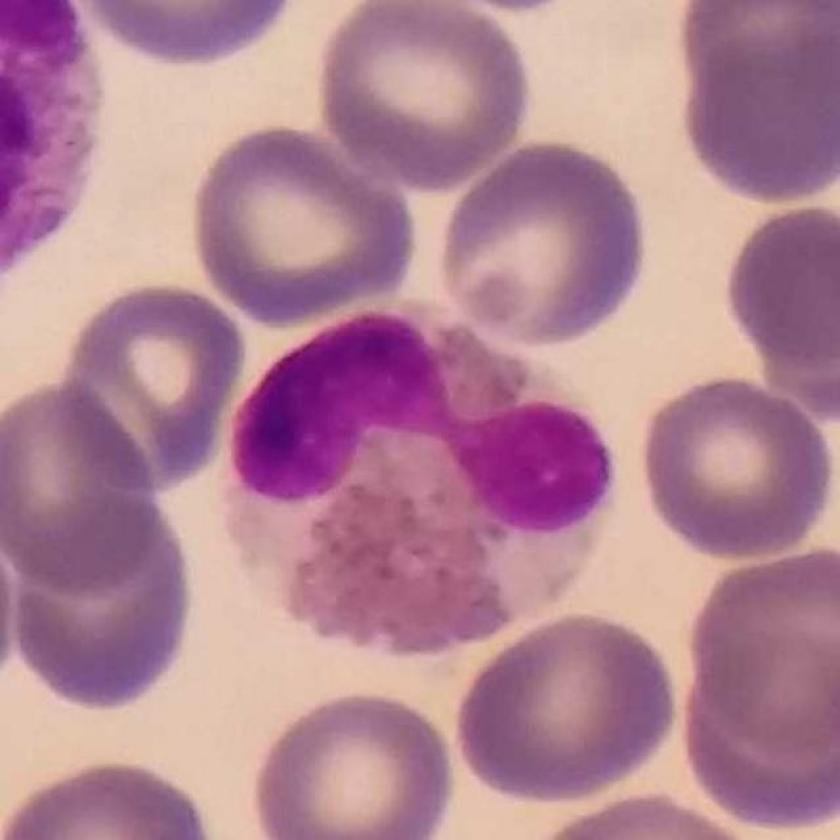eosinophil: (222, 292, 621, 656)
